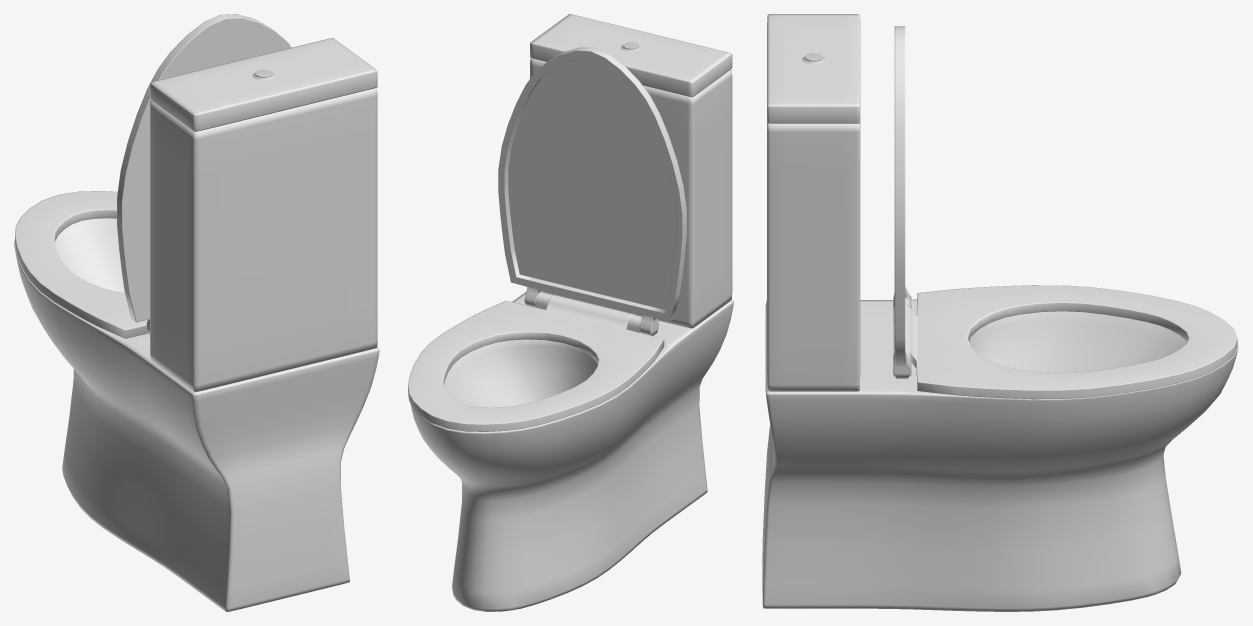
The model's file is Toilet05.glb.
3 views of the same model, side by side, from view 1: azimuth 30°, elevation 25°; view 2: azimuth 150°, elevation 25°; view 3: azimuth 270°, elevation 25° (orthographic). The views are drawn at different scales.
Parts seen in each view (by area): view 1: Toilet05_model, ToiletCover05, ToiletSeat05; view 2: Toilet05_model, ToiletCover05, ToiletSeat05; view 3: Toilet05_model, ToiletSeat05, ToiletCover05.
Boxes of the visible parts, x1=… form: Toilet05_model: x1=14, y1=38, x2=379, y2=611; ToiletCover05: x1=117, y1=14, x2=291, y2=334; ToiletSeat05: x1=15, y1=191, x2=147, y2=338; Toilet05_model: x1=410, y1=14, x2=733, y2=611; ToiletCover05: x1=498, y1=47, x2=686, y2=336; ToiletSeat05: x1=408, y1=295, x2=664, y2=431; Toilet05_model: x1=762, y1=14, x2=1238, y2=611; ToiletSeat05: x1=893, y1=285, x2=1237, y2=399; ToiletCover05: x1=893, y1=26, x2=911, y2=378.
Bounding box in the file's own units: 0.7597 × 1.84 × 1.45.
Materials: 1 (1 with a texture image).
